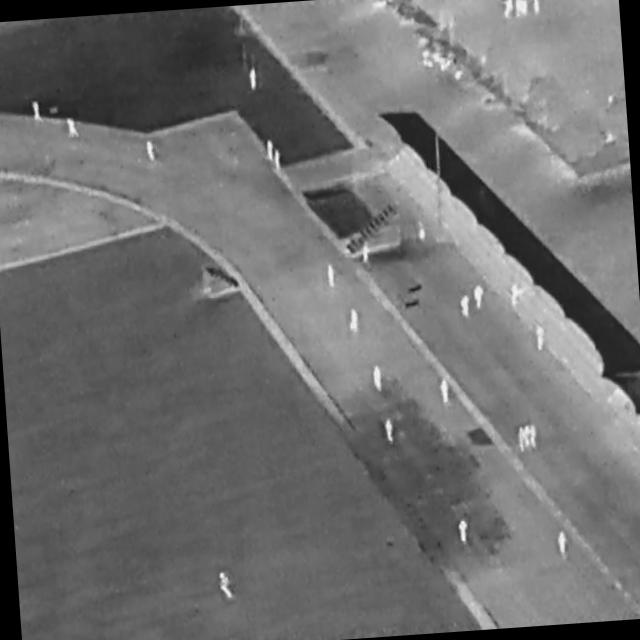person: (218, 572, 235, 600), (535, 324, 547, 352), (440, 379, 452, 406), (458, 519, 470, 545), (373, 366, 384, 393), (474, 285, 485, 311), (349, 308, 360, 334), (385, 419, 396, 445), (461, 294, 472, 319), (327, 265, 338, 290), (558, 531, 568, 555), (68, 119, 80, 139), (418, 221, 428, 244), (516, 1, 530, 17), (530, 426, 539, 449), (519, 427, 527, 452), (504, 1, 515, 19), (147, 141, 156, 162), (33, 101, 42, 122), (267, 139, 275, 162), (363, 242, 371, 263), (250, 69, 258, 90), (524, 426, 531, 447), (275, 150, 282, 171), (533, 1, 542, 16)
